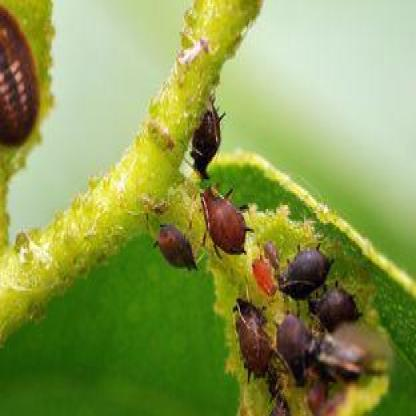aphid: (0, 4, 39, 149), (227, 292, 274, 386), (280, 231, 336, 306), (200, 186, 253, 262), (305, 270, 365, 334), (151, 219, 208, 286), (191, 84, 228, 186), (272, 310, 314, 388), (247, 238, 278, 297)
